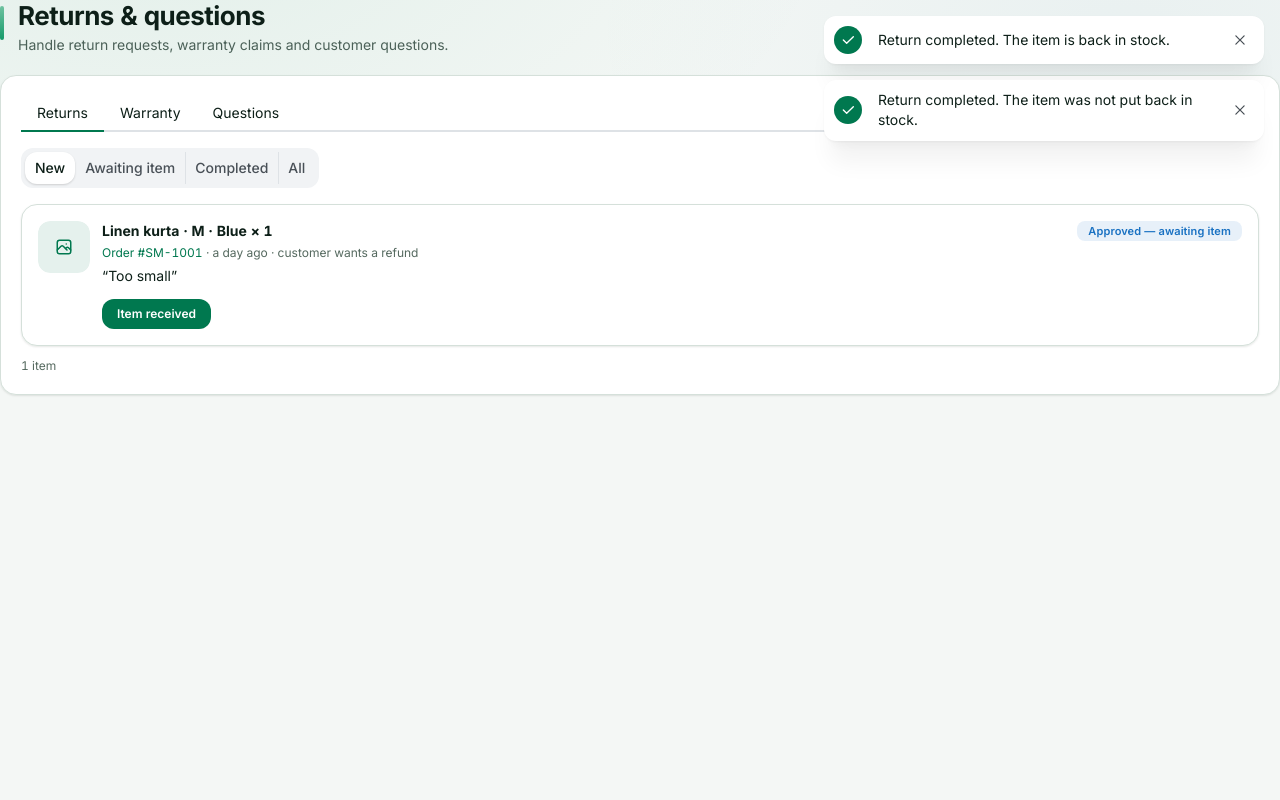
Test: seller "Item received" asks about restocking › does not complete when cancelled
The width and height of the screenshot is (1280, 800).
Click the button "Item received".
click(156, 314)  # box [102,299,211,329]
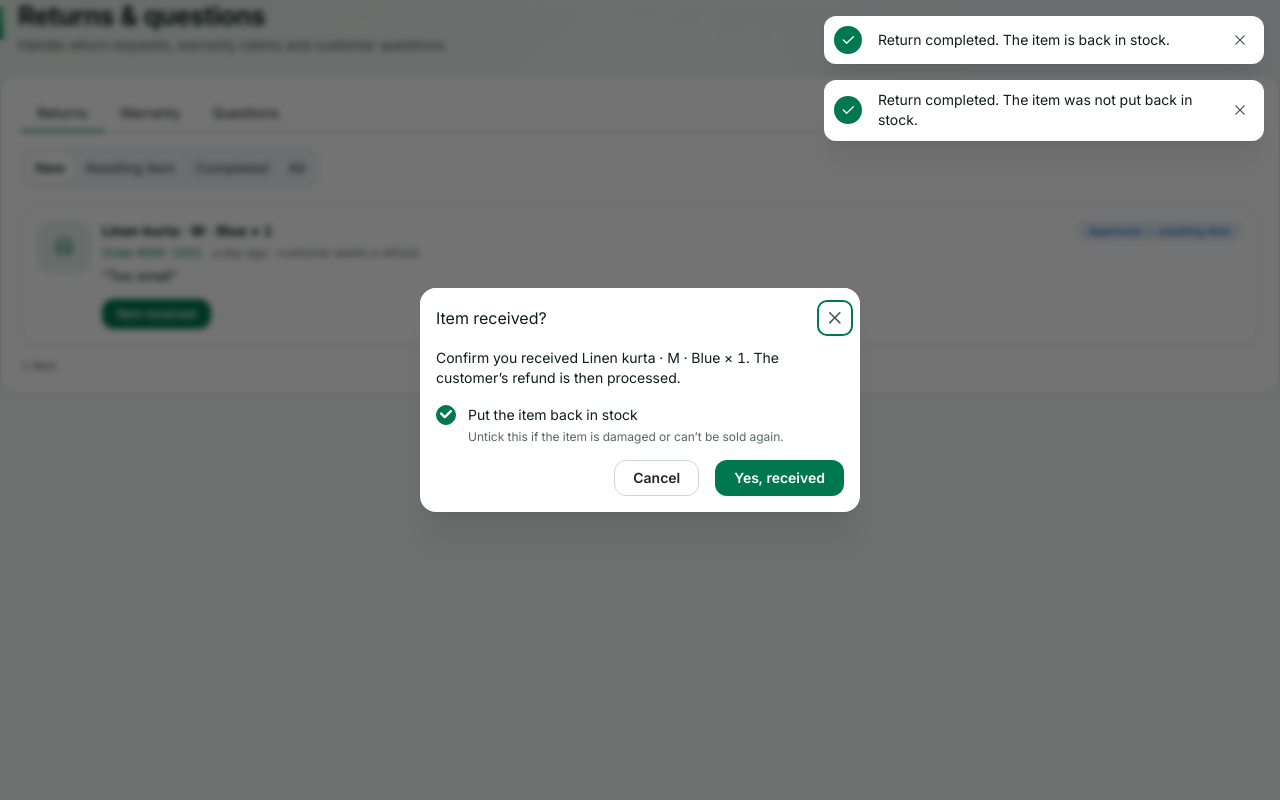
Click the button "Cancel".
click(657, 478)  # box [614,460,699,496]
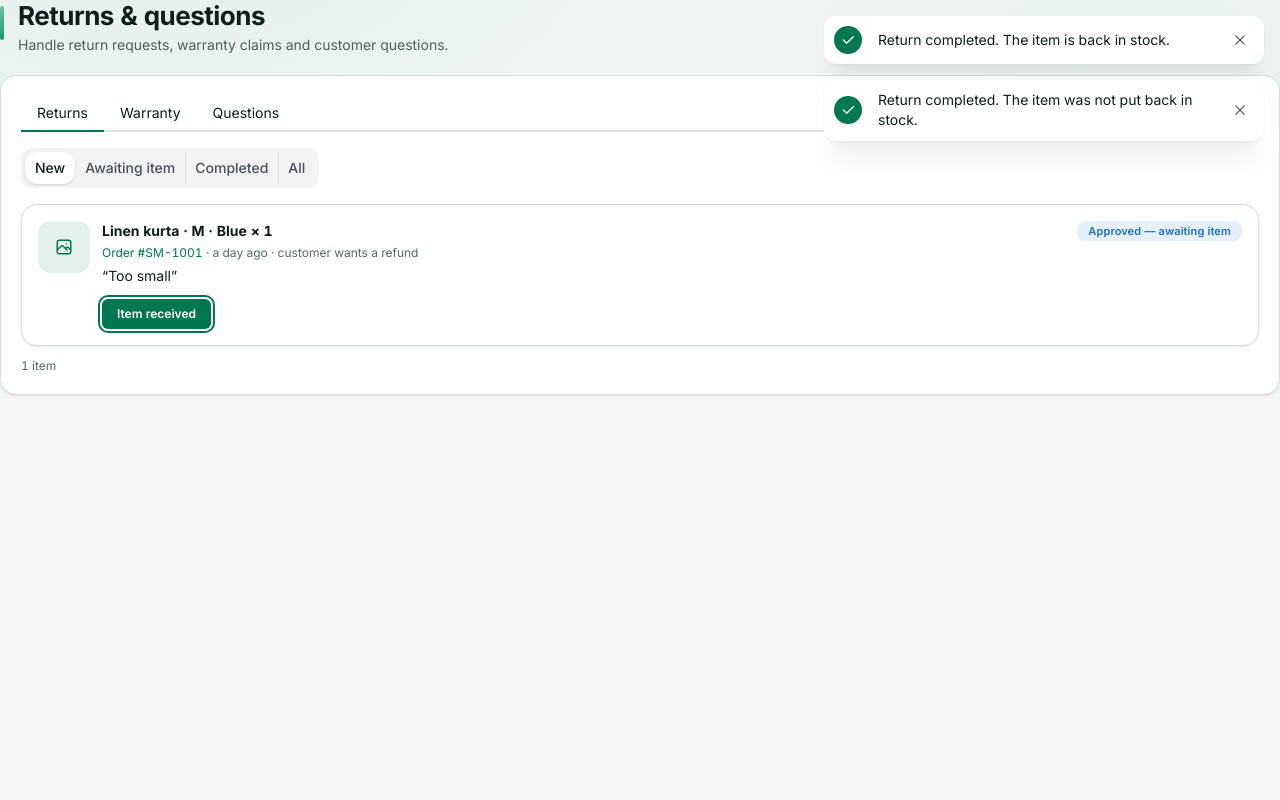
Expected: the dialog is gone
